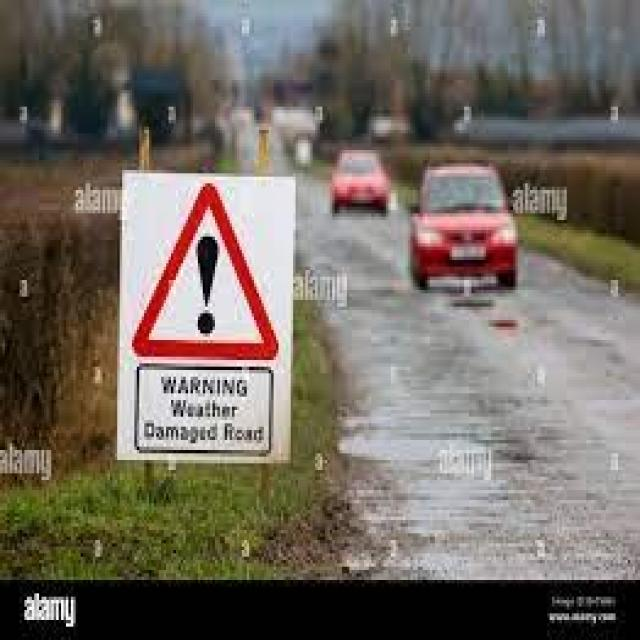warning: (127, 179, 285, 369)
